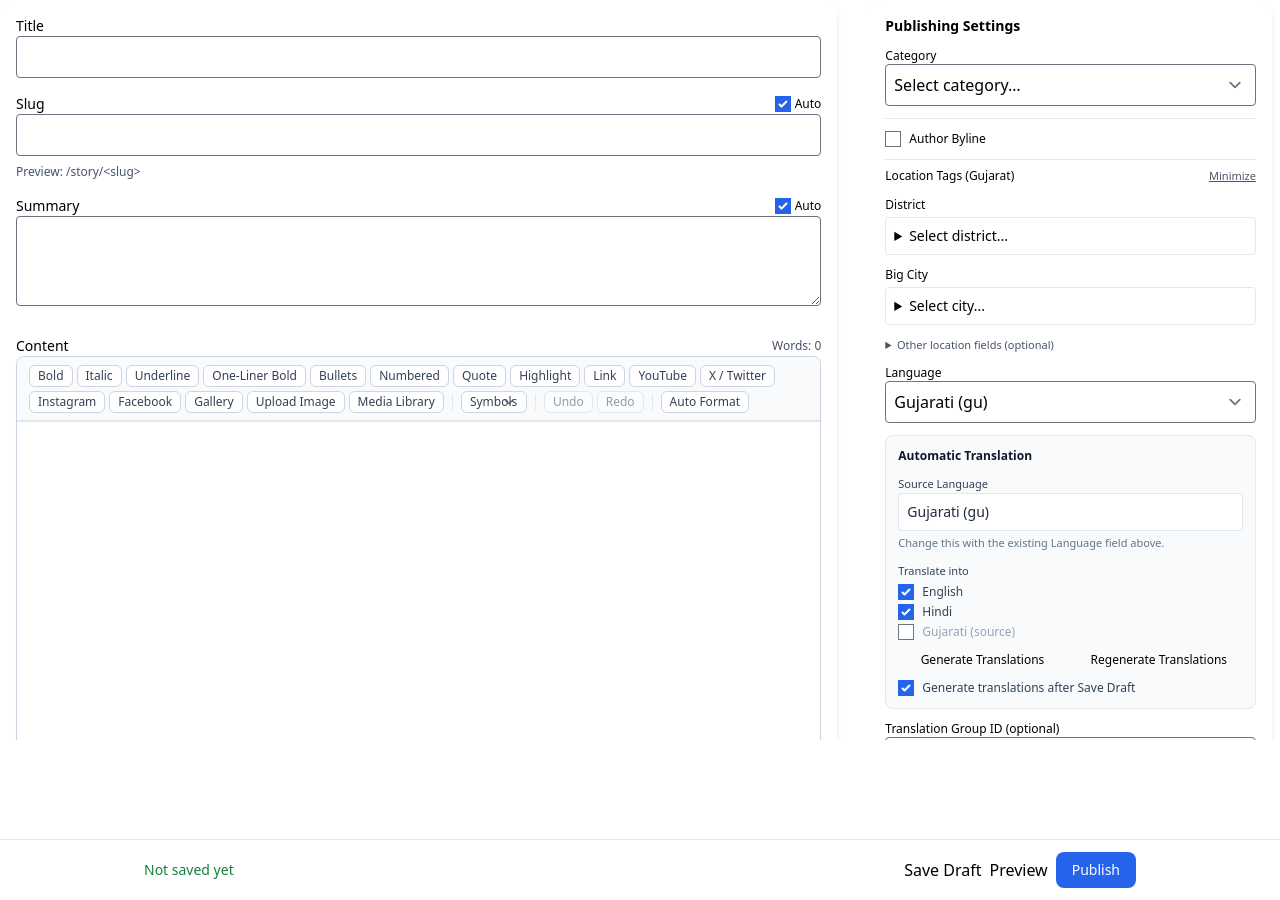
Test: ArticleForm Faith & Culture topic selector › shows exactly seven approved code/label options plus an optional blank choice
The image size is (1280, 900).
Select "Faith & Culture" in the dropdown below "Category" at (1071, 85), box [885,64,1256,106]
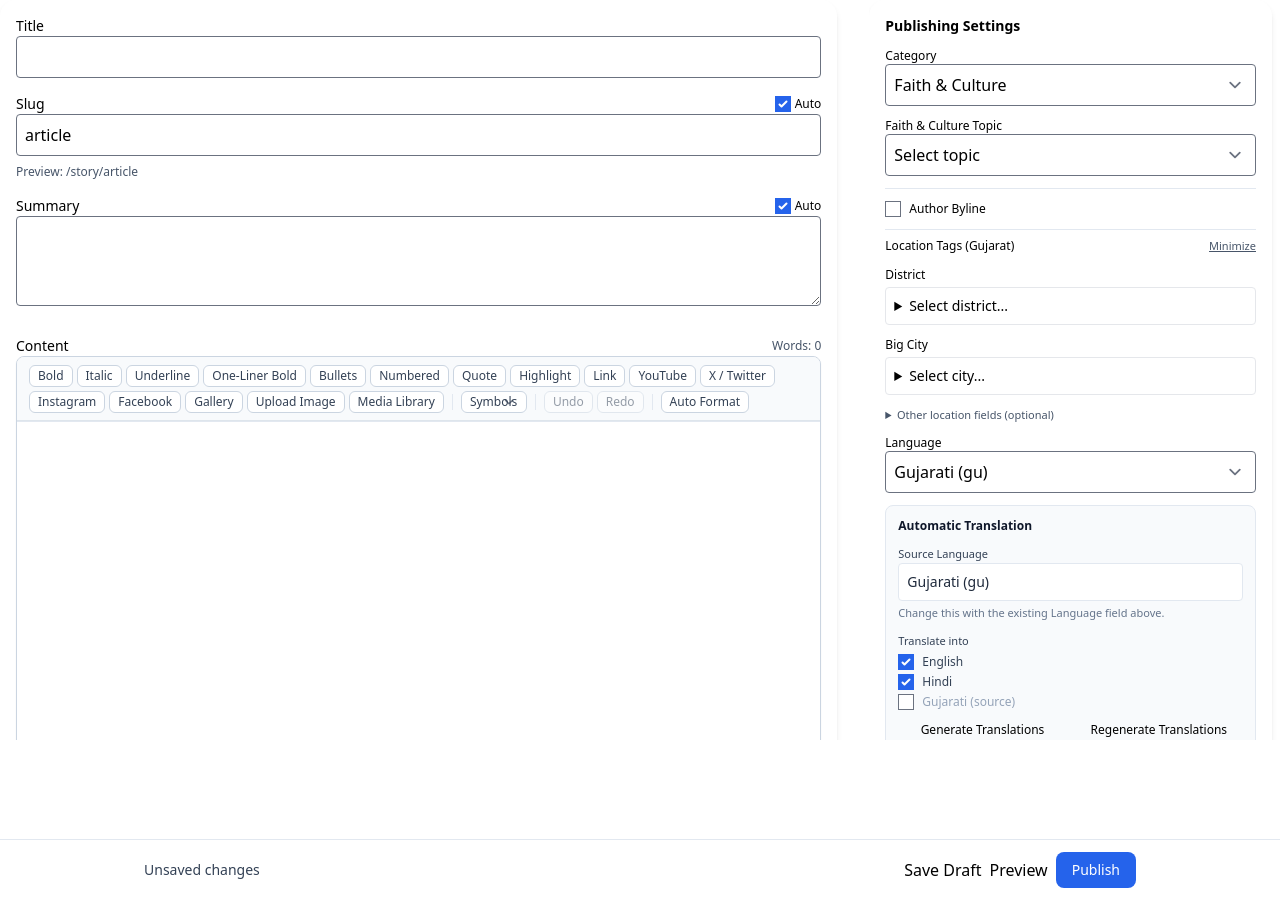
Result: the dropdown labelled "Faith & Culture Topic" shows "Select topic" at [885,134,1256,176]
